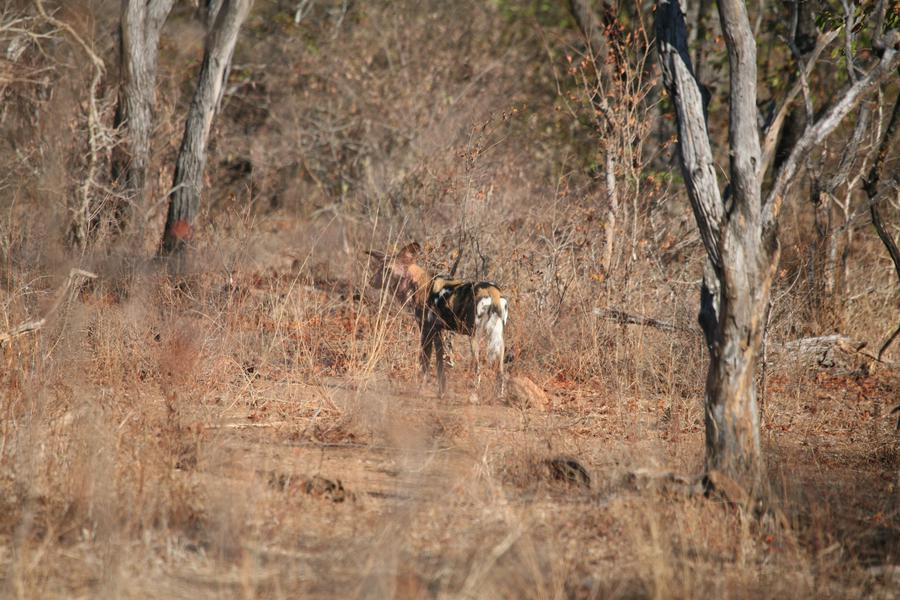wilddog: (365, 239, 514, 374)
